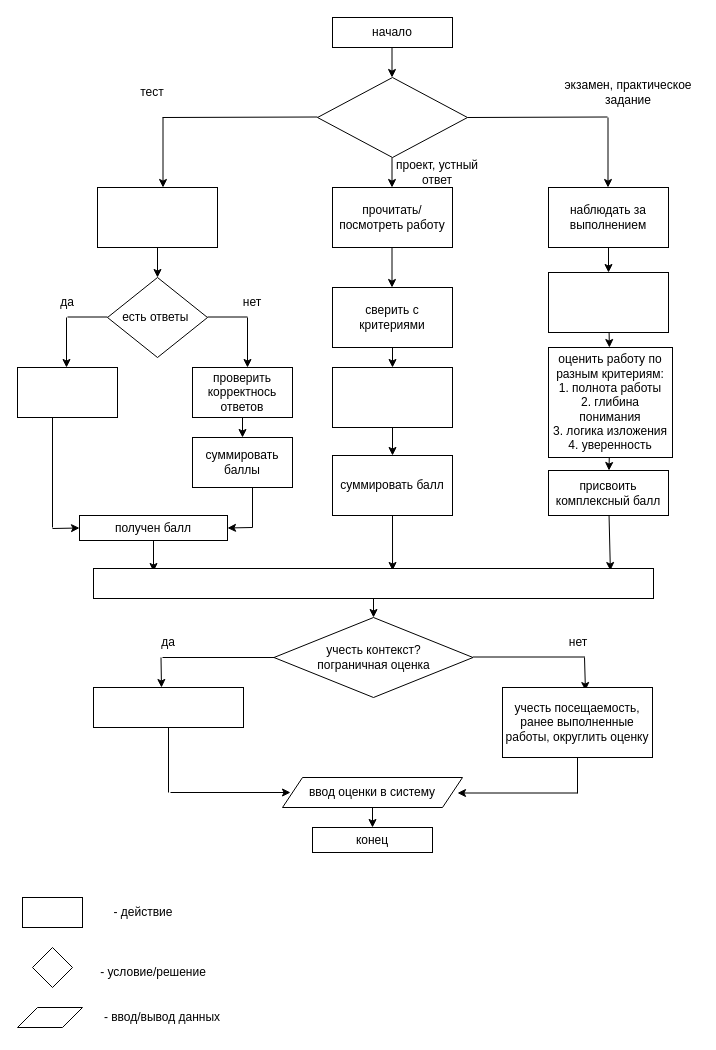
The diagram is 716 pixels wide and 1050 high, and some of its shapes have lost their labels. Here are the shapes that lost their labels. From the top down, the box of each, then its label:
(316, 76, 468, 158): тип работы
(96, 186, 218, 248): Сравнить ответы с ключом
(548, 272, 668, 332): использовать комплексные критерии
(16, 366, 118, 418): автоматический подсчет баллов
(332, 366, 452, 428): выставить балл по каждому критерию
(92, 568, 654, 598): сопоставь балл со школой "отлично", "хорошо" и т.д.
(92, 686, 244, 728): балл остается прежним
